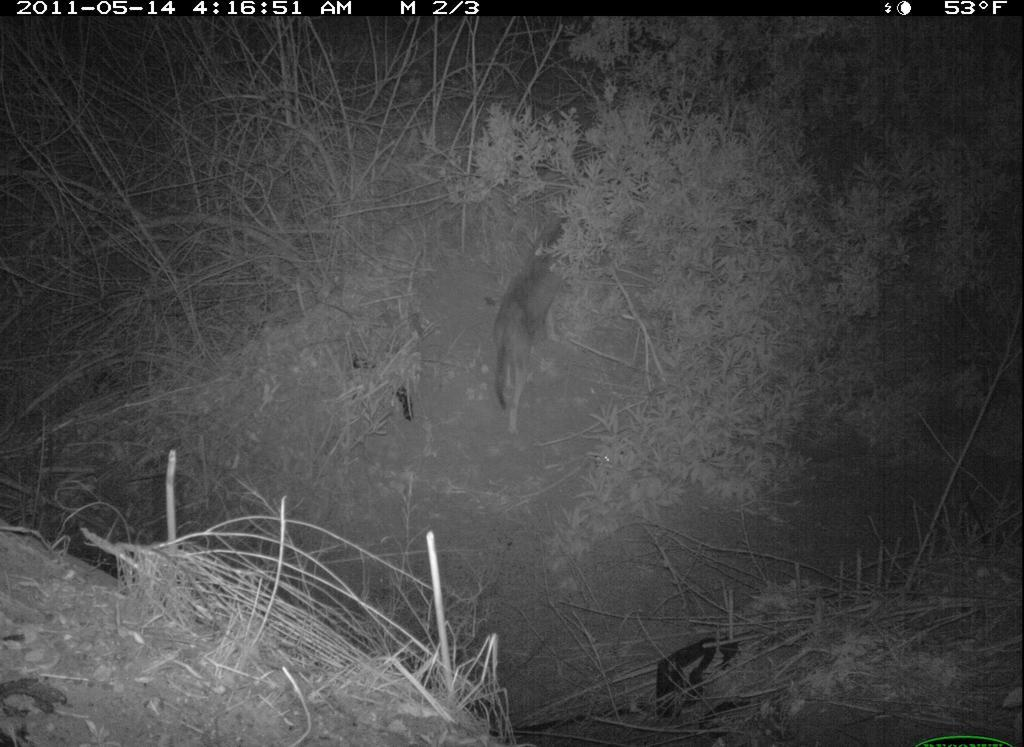coyote: (492, 207, 603, 441)
